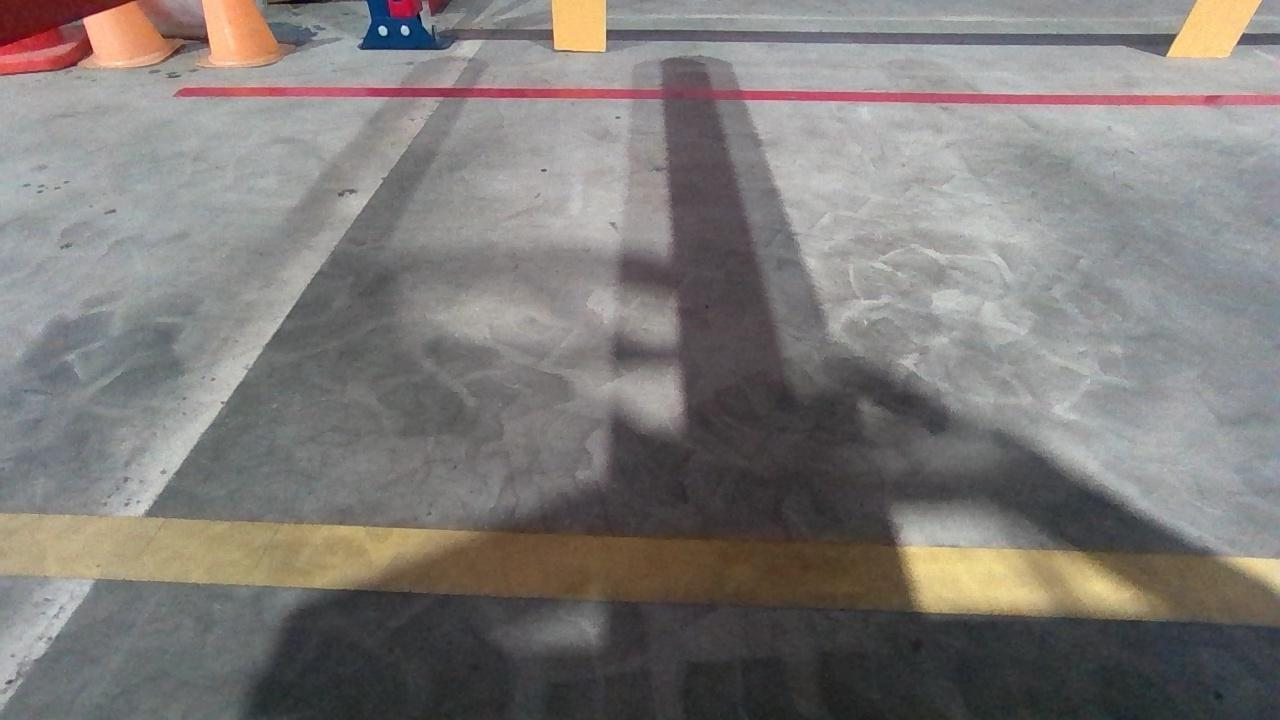red_line: (160, 82, 1279, 106)
yellow_line: (1, 512, 1280, 618)
